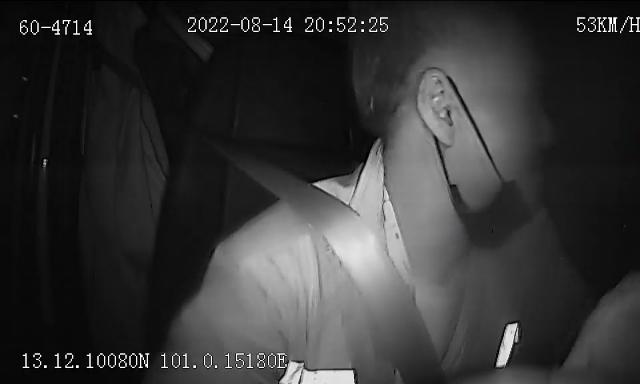Seatbelt: (200, 128, 446, 384)
